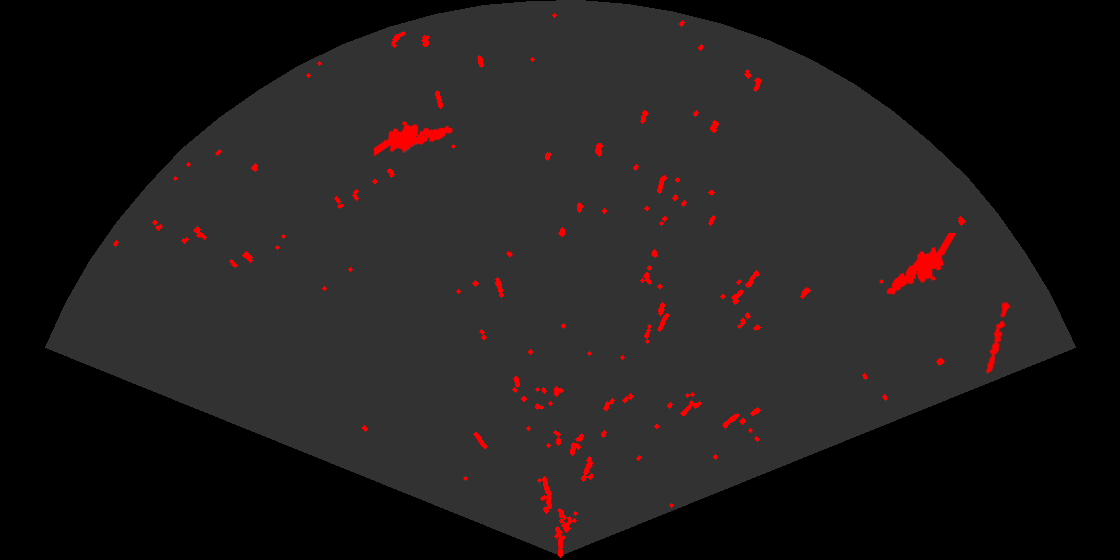chain: (984, 299, 1012, 374)
frogman: (885, 233, 956, 296), (374, 120, 454, 158)
